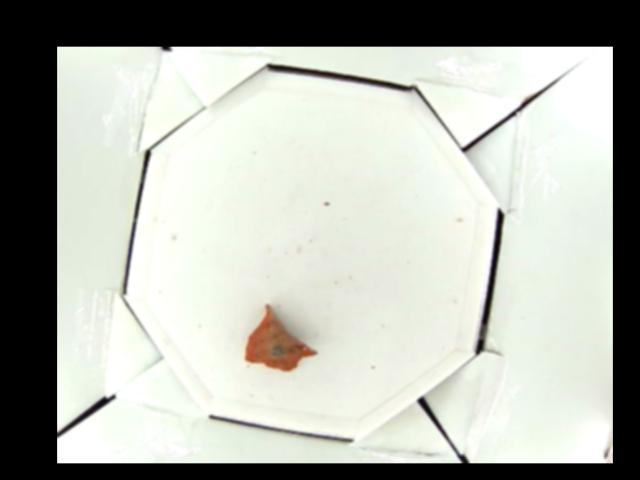Brisk: (243, 303, 315, 369)
